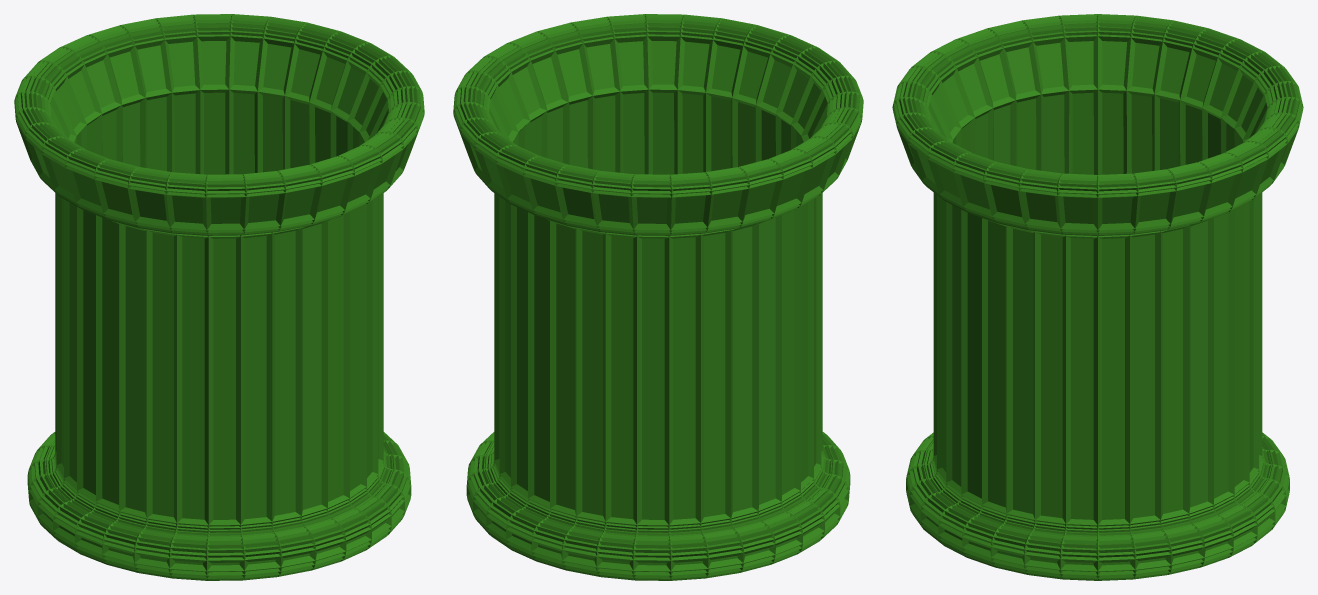
The model's file is Lixeira.fbx.
3 renders of one model, left to right at view 1: azimuth 30°, elevation 25°; view 2: azimuth 150°, elevation 25°; view 3: azimuth 270°, elevation 25°, orthographic.
Parts seen in each view (by area): view 1: Cylinder; view 2: Cylinder; view 3: Cylinder.
Boxes of the visible parts, x1,y1,x2,y2 form: Cylinder: [14, 14, 424, 580]; Cylinder: [453, 14, 863, 580]; Cylinder: [892, 14, 1303, 580].
Bounding box in the file's own units: 3.31 × 3.63 × 3.31.
